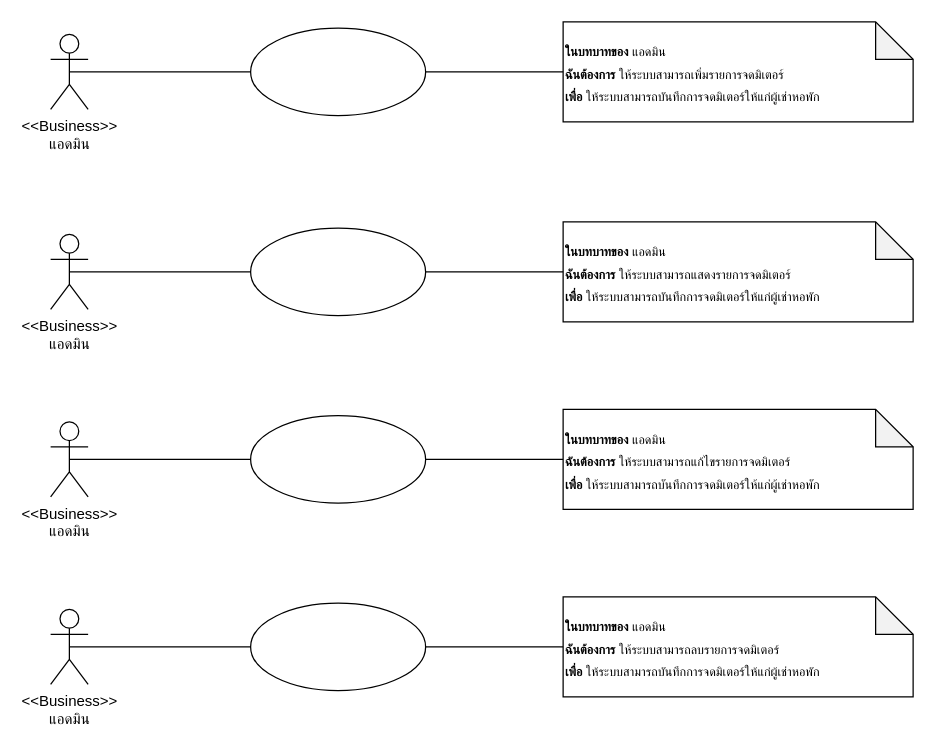
Image size: 935x751. Some labels were removed from this diagram. The shapes that lost their labels are listed below. From the top down, each one's box as (x1, y1, x2, y2) in pixels, then its label:
(249, 27, 426, 116): <<Business>> เพิ่มรายการจดมิเตอร์
(249, 227, 426, 316): <<Business>> แสดงรายการจดมิเตอร์
(249, 414, 426, 503): <<Business>> แก้ไขรายการจดมิเตอร์
(249, 602, 426, 691): <<Business>> ลบรายการจดมิเตอร์
